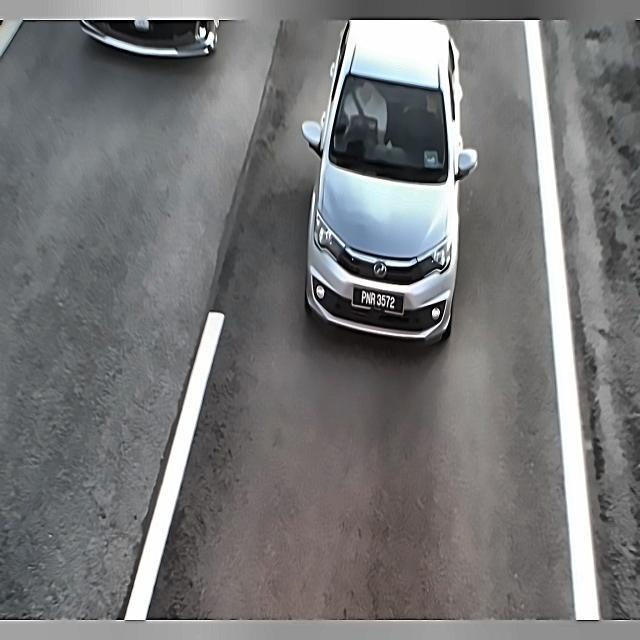car: (349, 284, 404, 320), (117, 12, 155, 34)
